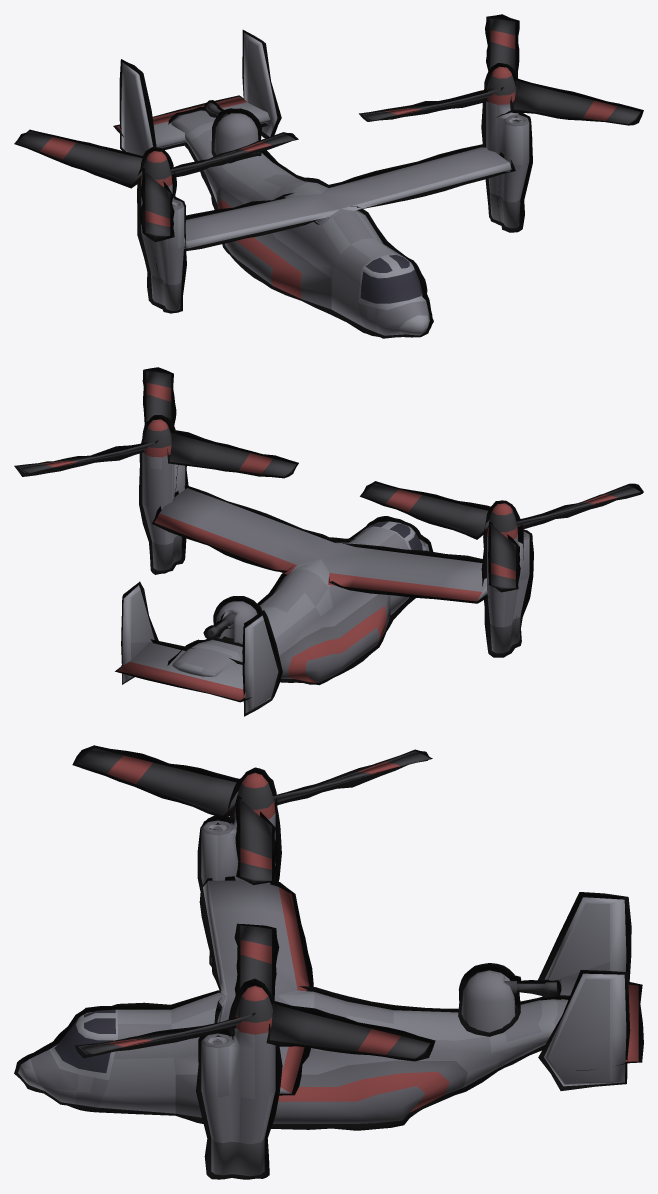
Rendered from boss1.fbx.
3 renders of one model, top to bottom at view 1: azimuth 30°, elevation 25°; view 2: azimuth 150°, elevation 25°; view 3: azimuth 270°, elevation 25°, orthographic. The views are drawn at different scales.
Parts seen in each view (by area): view 1: helicopteroBOSS, helice.R, helice.L, armaBOSS; view 2: helicopteroBOSS, helice.R, helice.L, armaBOSS; view 3: helicopteroBOSS, helice.R, helice.L, armaBOSS.
Boxes of the visible parts, left/top/right/bottom form: helicopteroBOSS: left=113, top=30, right=532, bottom=338; helice.R: left=14, top=129, right=298, bottom=241; helice.L: left=359, top=14, right=643, bottom=125; armaBOSS: left=203, top=100, right=258, bottom=155; helicopteroBOSS: left=115, top=415, right=533, bottom=716; helice.R: left=360, top=481, right=643, bottom=592; helice.L: left=14, top=367, right=298, bottom=478; armaBOSS: left=203, top=601, right=257, bottom=644; helicopteroBOSS: left=14, top=767, right=643, bottom=1179; helice.R: left=72, top=745, right=432, bottom=885; helice.L: left=75, top=923, right=435, bottom=1061; armaBOSS: left=461, top=970, right=561, bottom=1032.
Bounding box in the file's own units: 354 × 121 × 302.
